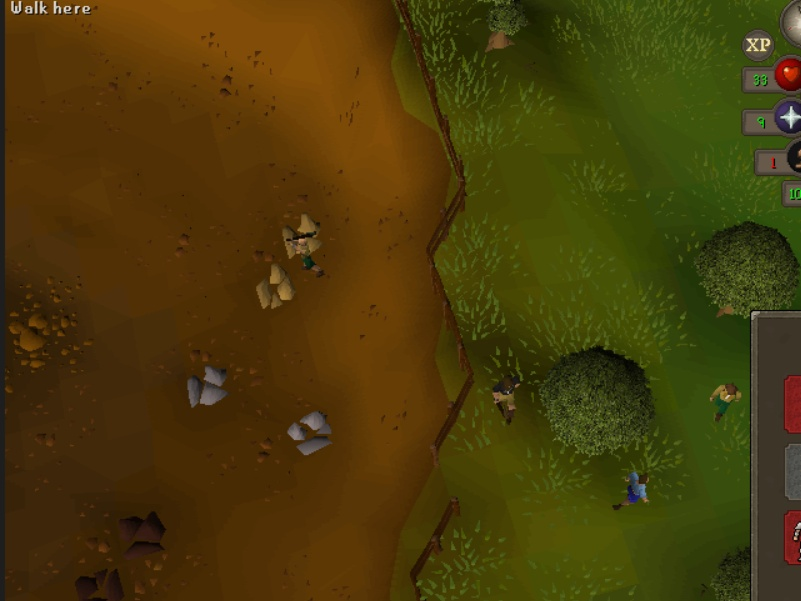clay: (250, 259, 303, 315), (275, 207, 328, 263)
iron: (119, 502, 173, 561), (73, 555, 131, 601)
tin: (180, 360, 241, 414), (281, 404, 342, 458)
